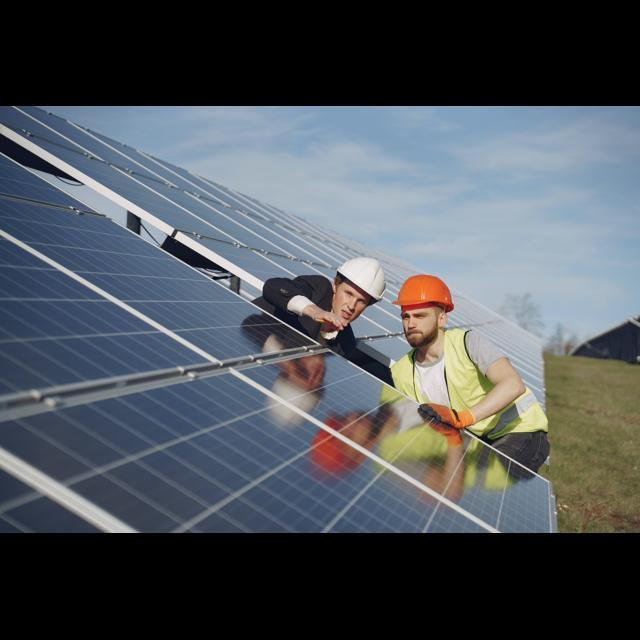helmet: (321, 249, 392, 304), (390, 270, 462, 316)
safety_vest: (392, 330, 563, 454)
